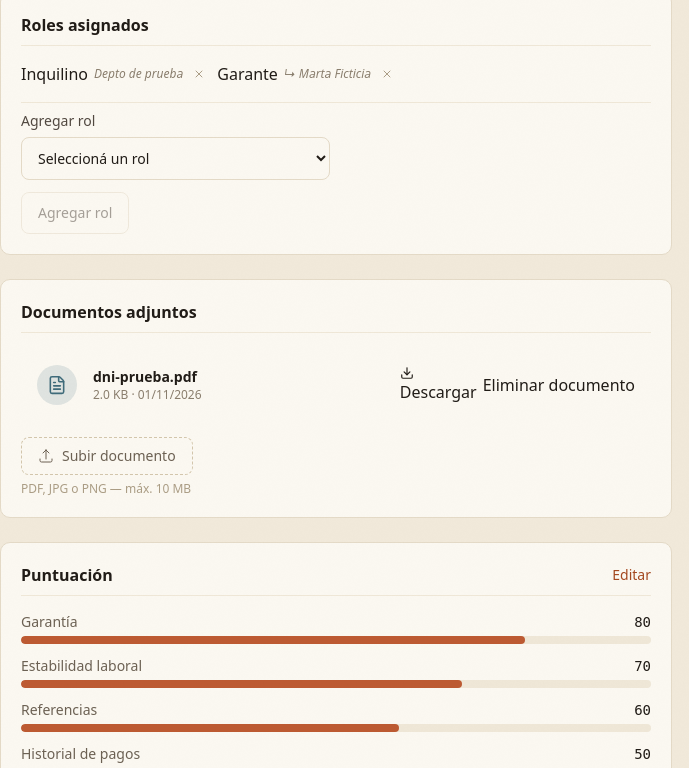
PersonDetailPage › si eliminar un documento falla muestra el mensaje
(page scrolled)
Click the button "Eliminar documento".
click(559, 385)  # box top-left (483, 373), bottom-right (635, 397)
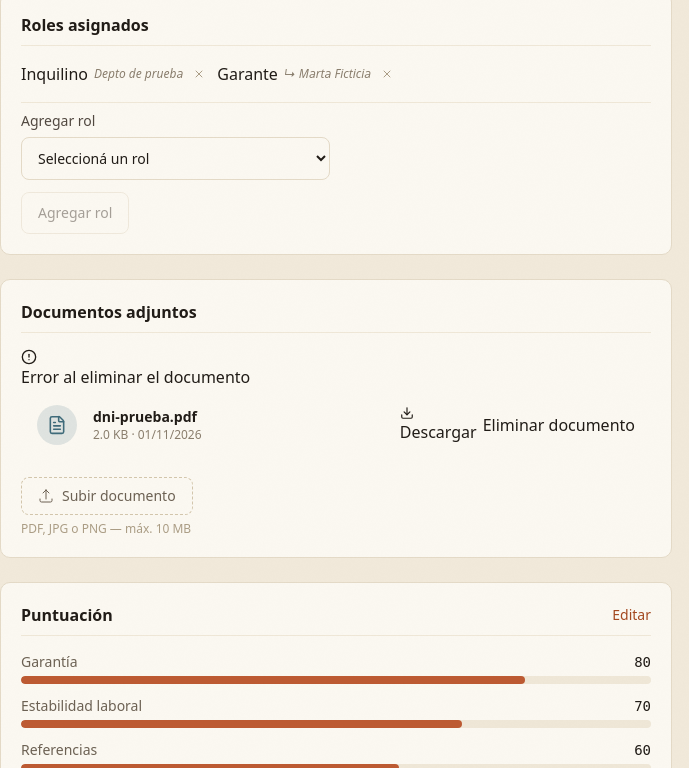
Result: the text "Error al eliminar el documento" is shown at top-left (21, 366), bottom-right (250, 388)
